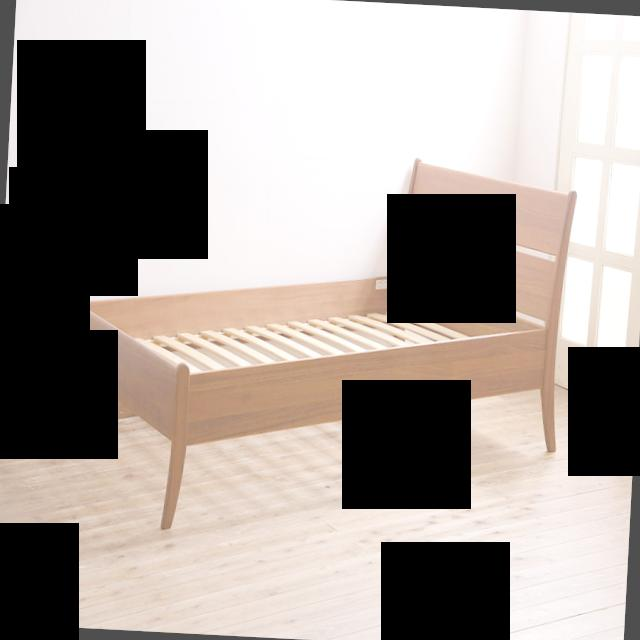bed vintage: (40, 136, 580, 555)
